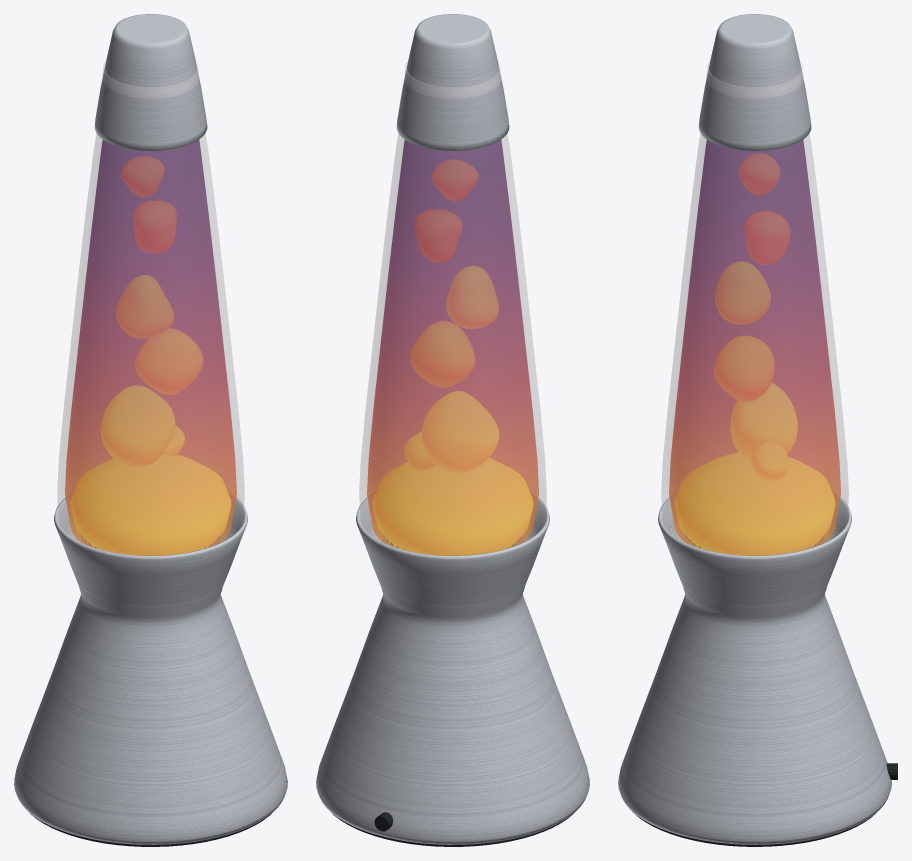
File: lava_lamp.glb
The picture shows the model from 3 angles, left to right: view 1: azimuth 30°, elevation 25°; view 2: azimuth 150°, elevation 25°; view 3: azimuth 270°, elevation 25°; orthographic projection.
Visible parts, largest first — view 1: Lava_GlassBottle, Lava_SpunBase, Lava_LiquidVolume, LavaWax_Pool, Lava_SpunCap, LavaBlob_0, LavaBlob_1, LavaBlob_2, LavaBlob_3, LavaBlob_4, Lava_FeltPad; view 2: Lava_GlassBottle, Lava_SpunBase, Lava_LiquidVolume, Lava_SpunCap, LavaWax_Pool, LavaBlob_0, LavaBlob_1, LavaBlob_2, LavaBlob_3, LavaBlob_4, LavaBlob_5, Lava_FeltPad; view 3: Lava_GlassBottle, Lava_SpunBase, Lava_LiquidVolume, LavaWax_Pool, Lava_SpunCap, LavaBlob_0, LavaBlob_1, LavaBlob_2, LavaBlob_3, LavaBlob_4, LavaBlob_5, Lava_FeltPad.
Boxes of the visible parts, x1=… form: Lava_GlassBottle: x1=57, y1=61, x2=244, y2=555; Lava_SpunBase: x1=14, y1=497, x2=287, y2=844; Lava_LiquidVolume: x1=65, y1=140, x2=236, y2=555; LavaWax_Pool: x1=70, y1=455, x2=231, y2=555; Lava_SpunCap: x1=94, y1=14, x2=207, y2=150; LavaBlob_0: x1=101, y1=386, x2=174, y2=466; LavaBlob_1: x1=135, y1=328, x2=202, y2=394; LavaBlob_2: x1=116, y1=275, x2=173, y2=337; LavaBlob_3: x1=134, y1=200, x2=176, y2=253; LavaBlob_4: x1=121, y1=156, x2=164, y2=196; Lava_FeltPad: x1=30, y1=813, x2=271, y2=846; Lava_GlassBottle: x1=359, y1=61, x2=546, y2=555; Lava_SpunBase: x1=316, y1=497, x2=589, y2=844; Lava_LiquidVolume: x1=367, y1=140, x2=538, y2=555; Lava_SpunCap: x1=396, y1=14, x2=509, y2=150; LavaWax_Pool: x1=372, y1=458, x2=533, y2=555; LavaBlob_0: x1=422, y1=391, x2=498, y2=472; LavaBlob_1: x1=410, y1=321, x2=474, y2=387; LavaBlob_2: x1=446, y1=266, x2=498, y2=328; LavaBlob_3: x1=415, y1=209, x2=462, y2=262; LavaBlob_4: x1=432, y1=159, x2=478, y2=200; LavaBlob_5: x1=404, y1=432, x2=435, y2=470; Lava_FeltPad: x1=332, y1=813, x2=573, y2=846; Lava_GlassBottle: x1=661, y1=61, x2=848, y2=555; Lava_SpunBase: x1=618, y1=497, x2=891, y2=844; Lava_LiquidVolume: x1=669, y1=140, x2=840, y2=555; LavaWax_Pool: x1=674, y1=452, x2=835, y2=555; Lava_SpunCap: x1=698, y1=14, x2=811, y2=150; LavaBlob_0: x1=731, y1=383, x2=797, y2=458; LavaBlob_1: x1=714, y1=336, x2=774, y2=401; LavaBlob_2: x1=715, y1=261, x2=770, y2=324; LavaBlob_3: x1=745, y1=211, x2=790, y2=264; LavaBlob_4: x1=738, y1=153, x2=780, y2=194; LavaBlob_5: x1=751, y1=442, x2=788, y2=480; Lava_FeltPad: x1=632, y1=811, x2=875, y2=846.
Size of the model in its own units: 0.14 by 0.43 by 0.143.
11 materials, 2 textured.
